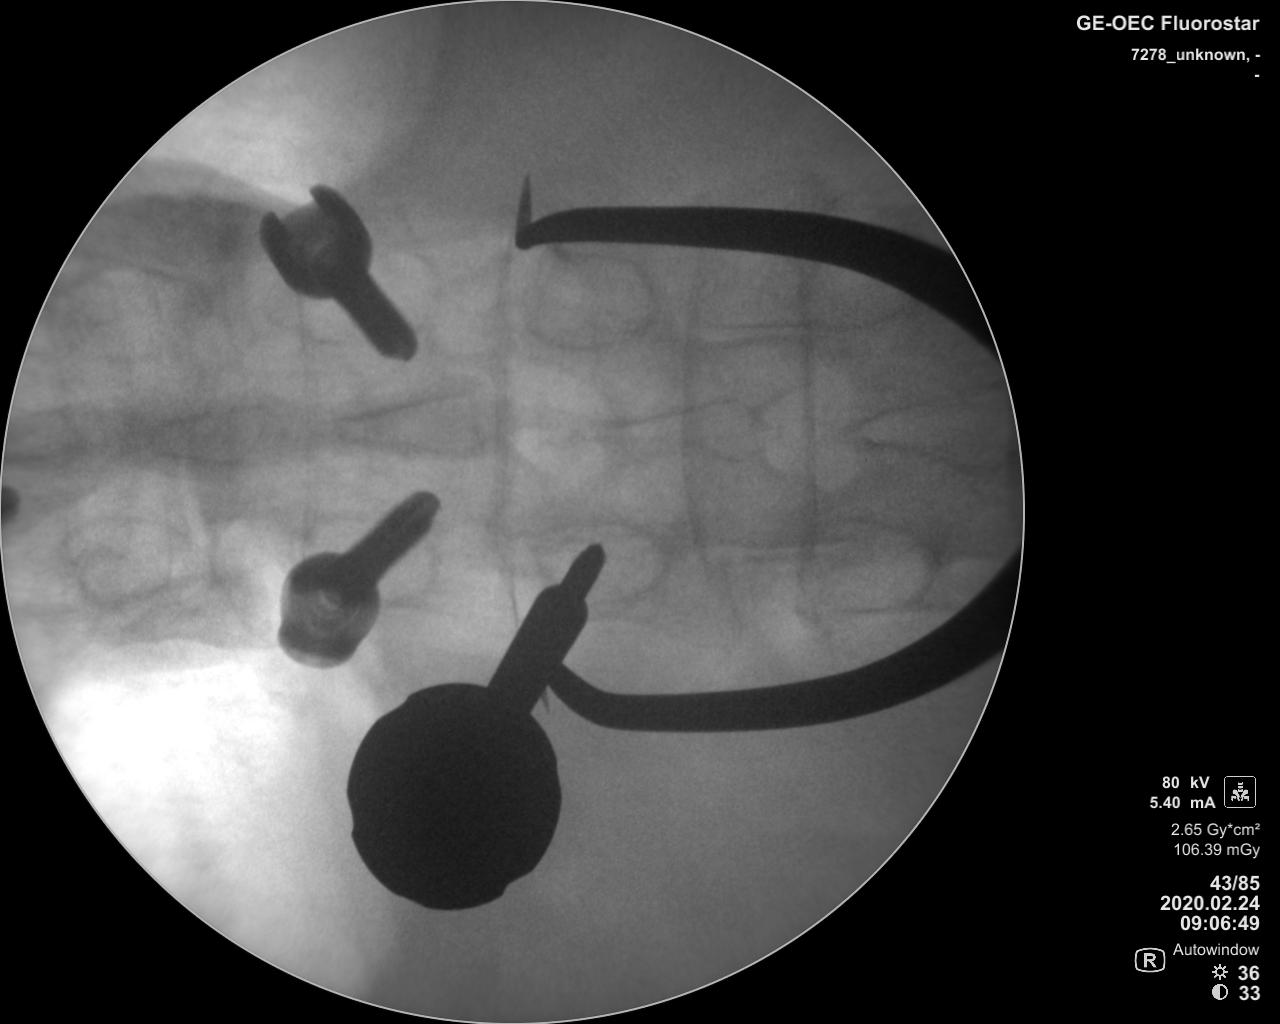eyes: (286, 245, 444, 348), (521, 253, 664, 355), (55, 514, 212, 606), (57, 266, 206, 360), (801, 517, 940, 615), (305, 511, 443, 601), (542, 520, 667, 602)
line: (487, 252, 521, 622), (679, 260, 715, 594), (790, 267, 822, 538), (289, 302, 324, 550)
nose: (585, 393, 777, 465), (332, 385, 504, 462), (845, 395, 1018, 471), (140, 399, 294, 468), (10, 408, 119, 471)
